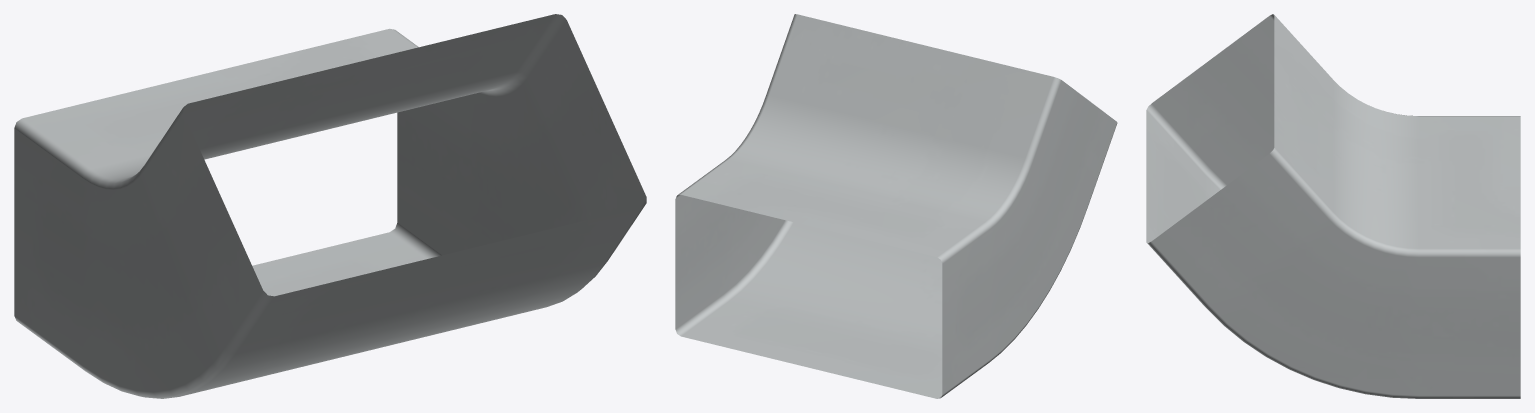
The model's file is rise_45.gltf.
3 renders of one model, left to right at view 1: azimuth 30°, elevation 25°; view 2: azimuth 150°, elevation 25°; view 3: azimuth 270°, elevation 25°, orthographic. The views are drawn at different scales.
Parts seen in each view (by area): view 1: rise_45; view 2: rise_45; view 3: rise_45.
Boxes of the visible parts, box(x1,y1,x2,y2) form: rise_45: box(14, 14, 646, 398); rise_45: box(675, 14, 1117, 398); rise_45: box(1146, 14, 1520, 398).
Bounding box in the file's own units: 0.7589 × 0.6426 × 0.8674.
Materials: 1 (1 with a texture image).
